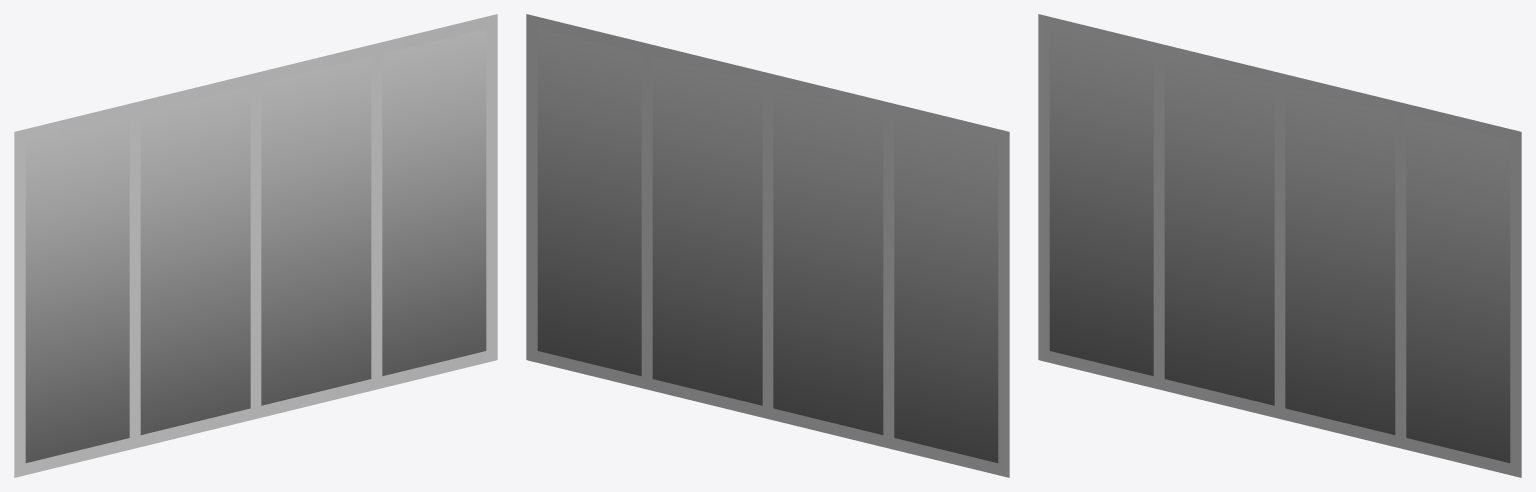
File: SM_Sliding_Door_(POP).fbx
3 renders of one model, left to right at view 1: azimuth 30°, elevation 25°; view 2: azimuth 150°, elevation 25°; view 3: azimuth 330°, elevation 25°, orthographic.
Visible parts, largest first — view 1: Sliding_Door_mash.001; view 2: Sliding_Door_mash.001; view 3: Sliding_Door_mash.001.
Boxes of the visible parts, x1,y1,x2,y2 form: Sliding_Door_mash.001: (14, 14, 497, 477); Sliding_Door_mash.001: (526, 14, 1009, 477); Sliding_Door_mash.001: (1038, 14, 1521, 477).
Size of the model in its own units: 3.47 by 2.37 by 0.
